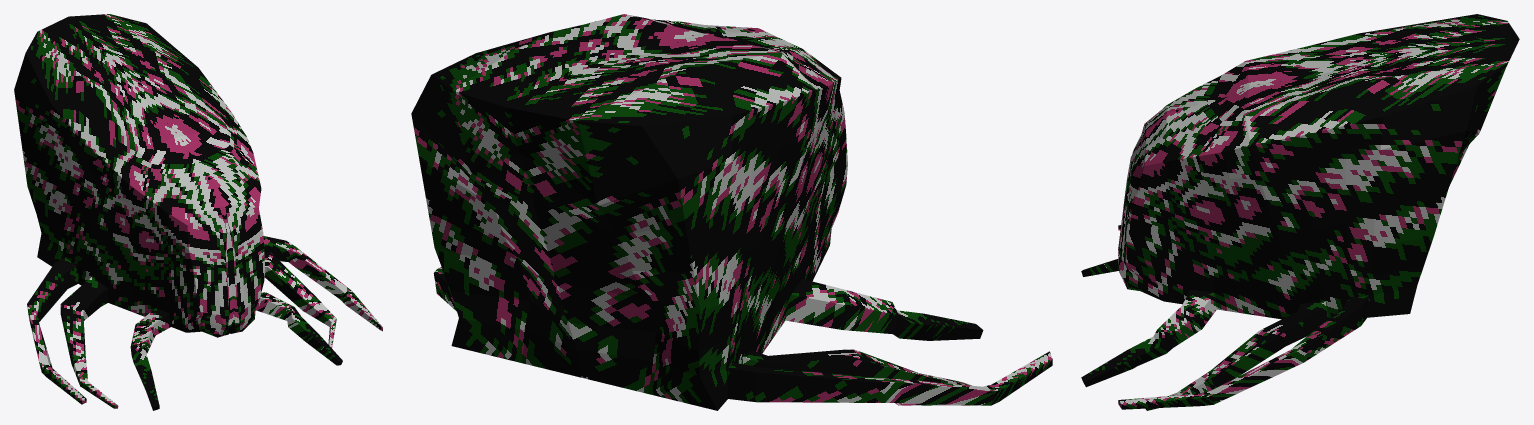
Rendered from spider.glb.
3 renders of one model, left to right at view 1: azimuth 30°, elevation 25°; view 2: azimuth 150°, elevation 25°; view 3: azimuth 270°, elevation 25°, orthographic. The views are drawn at different scales.
Parts seen in each view (by area): view 1: Cube; view 2: Cube; view 3: Cube.
Boxes of the visible parts, bbox=[...] form: Cube: bbox=[14, 14, 382, 410]; Cube: bbox=[411, 14, 1052, 410]; Cube: bbox=[1081, 14, 1519, 410].
Size of the model in its own units: 4.06 by 3.17 by 4.08.
1 material, 1 textured.
